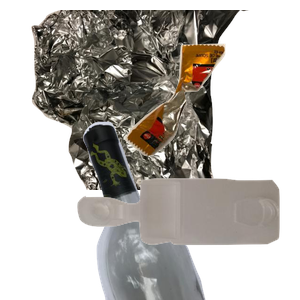glass: (81, 120, 300, 300)
metal: (29, 10, 269, 190)
plastic: (75, 176, 300, 300)
trash: (122, 41, 300, 190)
